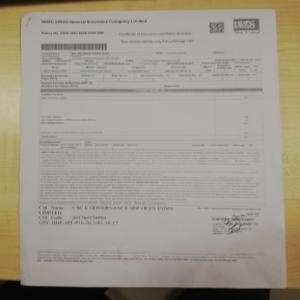image: (232, 17, 262, 30)
table: (38, 86, 264, 146), (40, 48, 264, 87)
text: (38, 169, 265, 202), (43, 148, 263, 171), (37, 201, 179, 227), (37, 14, 150, 28), (119, 29, 193, 37)
